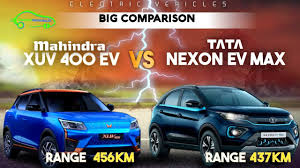XUV 400: (8, 87, 142, 163)
